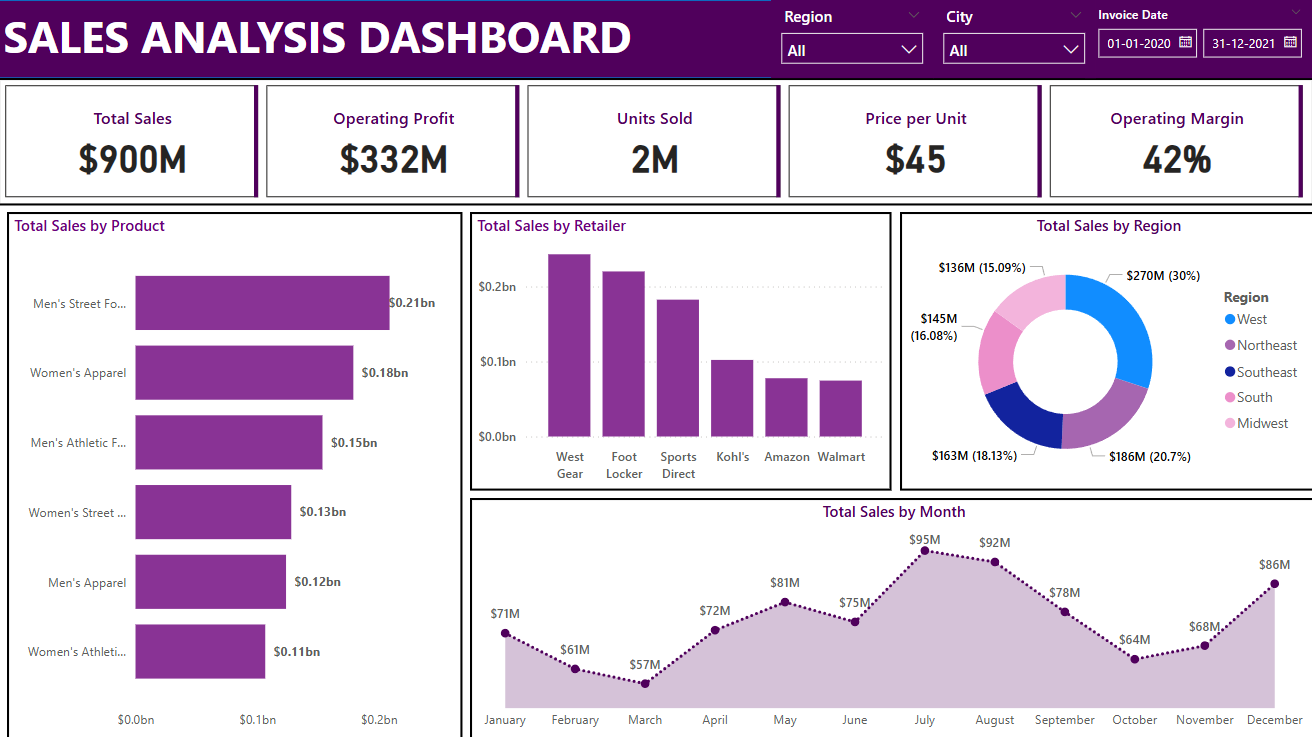

What the dashboard file says about the page in this screenshot:
{"tool":"powerbi","page":{"name":"Dashboard","canvas":[1280,720],"ordinal":0},"visuals":[{"type":"shape","box":[0,0,1279.7,76.1],"z":0},{"type":"textbox","box":[0,1,1280,74.9],"z":1},{"type":"cardVisual","fields":{"Data":["Sum(Data Sales Adidas.Total Sales)","Sum(Data Sales Adidas.Operating Profit)","Sum(Data Sales Adidas.Units Sold)","Avg(Data Sales Adidas.Price per Unit)","Avg(Data Sales Adidas.Operating Margin)"]},"box":[0,75.9,1280,123.5],"z":2},{"type":"areaChart","title":"Total Sales by Month","fields":{"Category":["Data Sales Adidas.Invoice Date.Variation.Date Hierarchy.Month"],"Y":["Sum(Data Sales Adidas.Total Sales)"]},"box":[459.1,484.4,820.9,235.4],"z":3},{"type":"donutChart","fields":{"Category":["Data Sales Adidas.Region"],"Y":["Sum(Data Sales Adidas.Total Sales)"]},"box":[877.3,206.2,402.7,271.4],"z":4},{"type":"barChart","fields":{"Category":["Data Sales Adidas.Product"],"Y":["Sum(Data Sales Adidas.Total Sales)"]},"box":[8.8,206.2,442.6,513.6],"z":5},{"type":"columnChart","fields":{"Category":["Data Sales Adidas.Retailer"],"Y":["Sum(Data Sales Adidas.Total Sales)"]},"box":[459.1,206.2,410.5,271.4],"z":6},{"type":"slicer","fields":{"Values":["Data Sales Adidas.Region"]},"box":[751.9,0,157.6,75.9],"z":7},{"type":"slicer","fields":{"Values":["Data Sales Adidas.Invoice Date"]},"box":[1057.3,0,222.7,75.9],"z":8},{"type":"slicer","fields":{"Values":["Data Sales Adidas.City"]},"box":[909.4,0,157.6,75.9],"z":9}]}

Visuals, with their boxes in screenshot pixels (x1, y1, x2, y2), scaled from the page's 1280x720 canvas onto the 1312x737 screenshot:
shape: box=[0, 0, 1311, 78]
textbox: box=[0, 1, 1311, 78]
cardVisual - Sum(Data Sales Adidas.Total Sales) x Sum(Data Sales Adidas.Operating Profit): box=[0, 78, 1311, 204]
"Total Sales by Month" areaChart: box=[471, 496, 1311, 736]
donutChart - Data Sales Adidas.Region x Sum(Data Sales Adidas.Total Sales): box=[899, 211, 1311, 489]
barChart - Data Sales Adidas.Product x Sum(Data Sales Adidas.Total Sales): box=[9, 211, 463, 736]
columnChart - Data Sales Adidas.Retailer x Sum(Data Sales Adidas.Total Sales): box=[471, 211, 891, 489]
slicer - Data Sales Adidas.Region: box=[771, 0, 932, 78]
slicer - Data Sales Adidas.Invoice Date: box=[1084, 0, 1311, 78]
slicer - Data Sales Adidas.City: box=[932, 0, 1094, 78]
